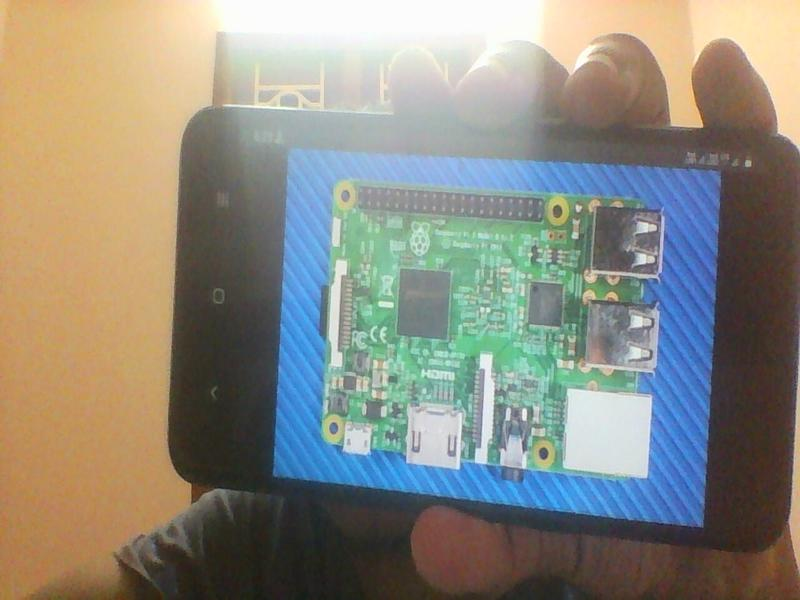aud: (499, 403, 533, 484)
eth: (562, 385, 654, 477)
usb: (588, 202, 666, 281), (581, 299, 661, 375)
